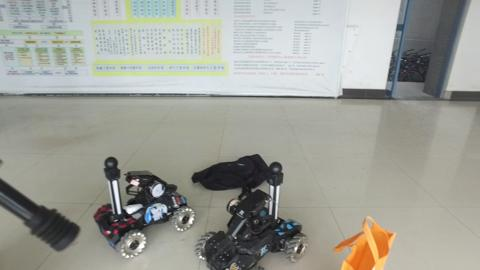bag: (192, 152, 270, 192)
chariot: (93, 155, 199, 262), (195, 187, 309, 267)
